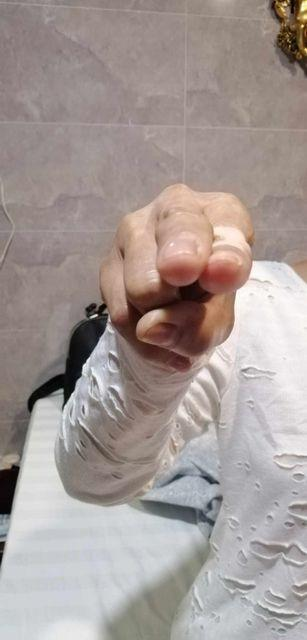n: (99, 182, 255, 372)
